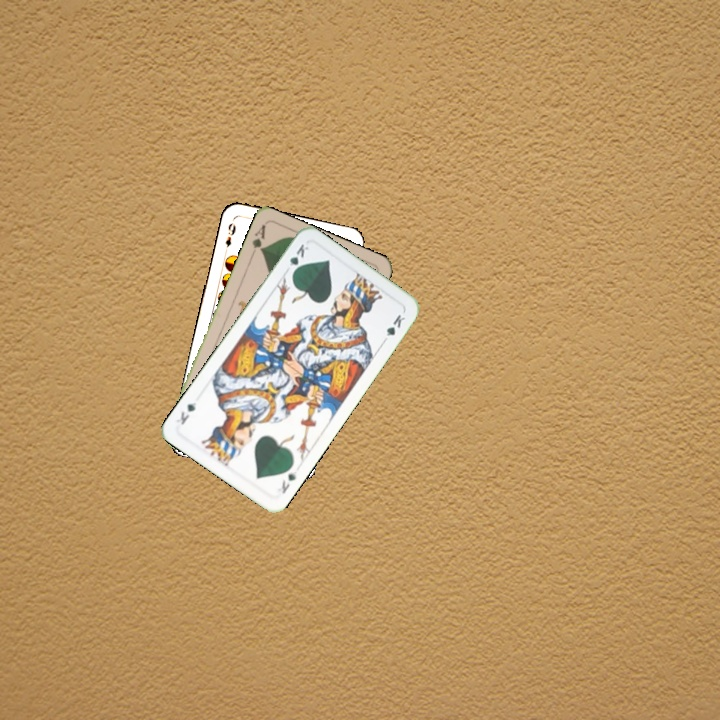E9: (221, 219, 238, 256)
GA: (246, 221, 268, 260)
GK: (285, 240, 312, 278), (277, 466, 300, 496)
